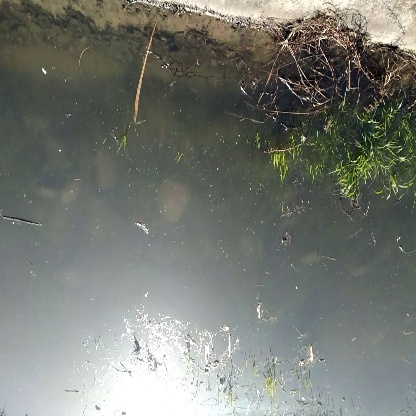grass: (336, 114, 416, 198)
